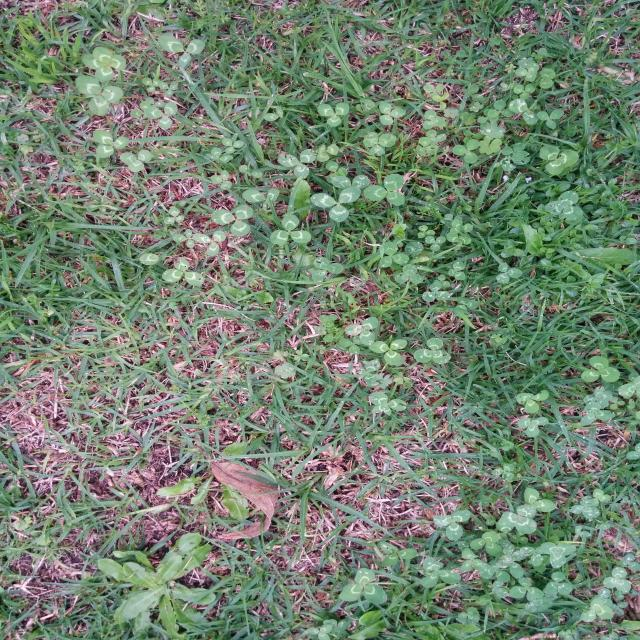Four Leaf Clover: (82, 46, 126, 82), (583, 386, 613, 409)
